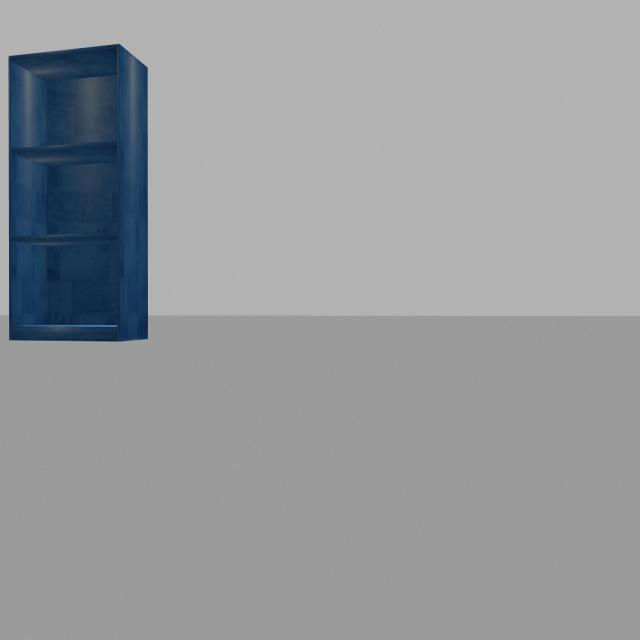shelf: (4, 36, 160, 360)
